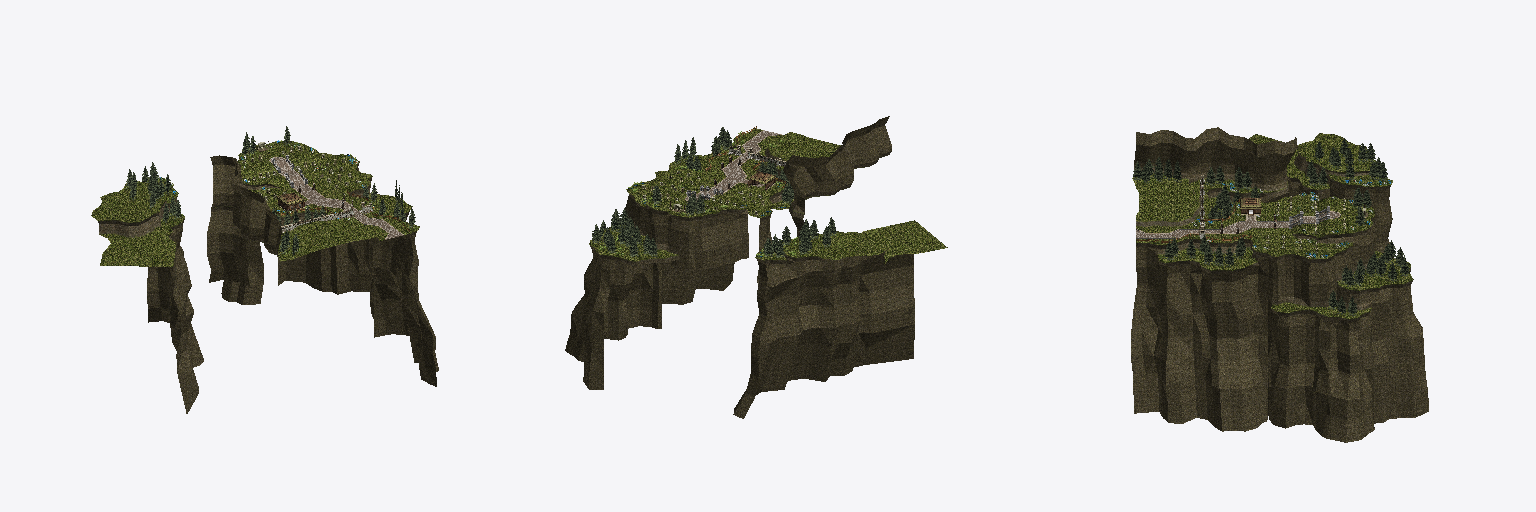
3 views of the same model, side by side, from view 1: azimuth 30°, elevation 25°; view 2: azimuth 150°, elevation 25°; view 3: azimuth 270°, elevation 25° (orthographic).
Parts seen in each view (by area): view 1: Object.68, Object.4, Object.8, Object.71, Object.59, Object.53, Object.69, Object.23, Object.61, Object.24, Object.72, Object.12 (+16 smaller); view 2: Object.40, Object.42, Object.65, Object.34, Object.31, Object.55, Object.36, Object.30, Object.4, Object.62, Object.35, Object.66 (+24 smaller); view 3: Object.53, Object.71, Object.72, Object.56, Object.59, Object.60, Object.52, Object.62, Object.51, Object.57, Object.55, Object.64 (+28 smaller).
Boxes of the visible parts, <box> form: Object.68: <box>207,234,263,304</box>; Object.4: <box>91,207,150,265</box>; Object.8: <box>245,154,339,200</box>; Object.71: <box>405,301,438,386</box>; Object.59: <box>337,240,371,294</box>; Object.53: <box>368,237,401,292</box>; Object.69: <box>207,166,249,252</box>; Object.23: <box>310,214,388,244</box>; Object.61: <box>313,244,346,294</box>; Object.24: <box>278,223,342,259</box>; Object.72: <box>398,240,431,333</box>; Object.12: <box>301,149,372,187</box>; Object.40: <box>797,256,863,334</box>; Object.42: <box>792,321,859,381</box>; Object.65: <box>647,209,729,269</box>; Object.34: <box>852,306,913,370</box>; Object.31: <box>751,264,798,357</box>; Object.55: <box>619,270,661,339</box>; Object.36: <box>859,254,913,313</box>; Object.30: <box>734,338,789,408</box>; Object.4: <box>838,232,933,263</box>; Object.62: <box>604,284,640,340</box>; Object.35: <box>870,254,914,305</box>; Object.66: <box>583,323,603,389</box>; Object.53: <box>1193,274,1267,361</box>; Object.71: <box>1131,333,1201,423</box>; Object.72: <box>1131,267,1200,361</box>; Object.56: <box>1264,279,1332,365</box>; Object.59: <box>1327,368,1374,442</box>; Object.60: <box>1335,287,1402,368</box>; Object.52: <box>1195,356,1267,426</box>; Object.62: <box>1273,365,1331,438</box>; Object.51: <box>1212,362,1263,431</box>; Object.57: <box>1259,258,1332,302</box>; Object.55: <box>1263,358,1314,424</box>; Object.64: <box>1329,318,1371,374</box>.
Size of the model in its own units: 146 by 86.72 by 112.
Materials: 20 (19 with a texture image).